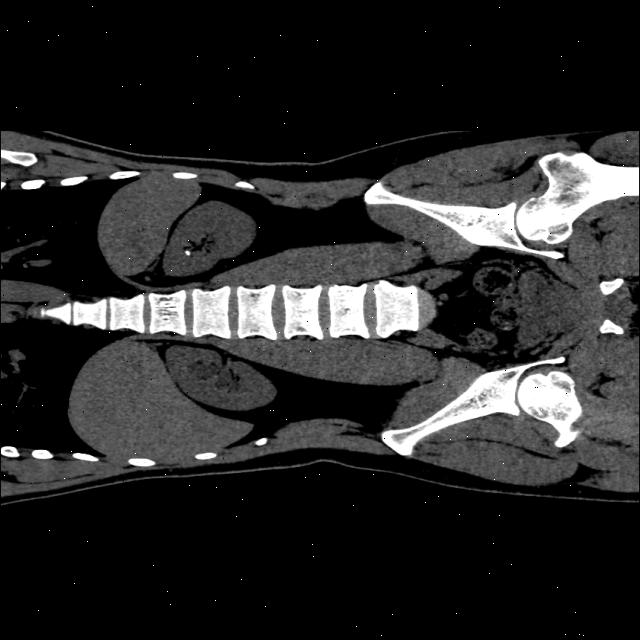kidneystone: (184, 247, 191, 260)
